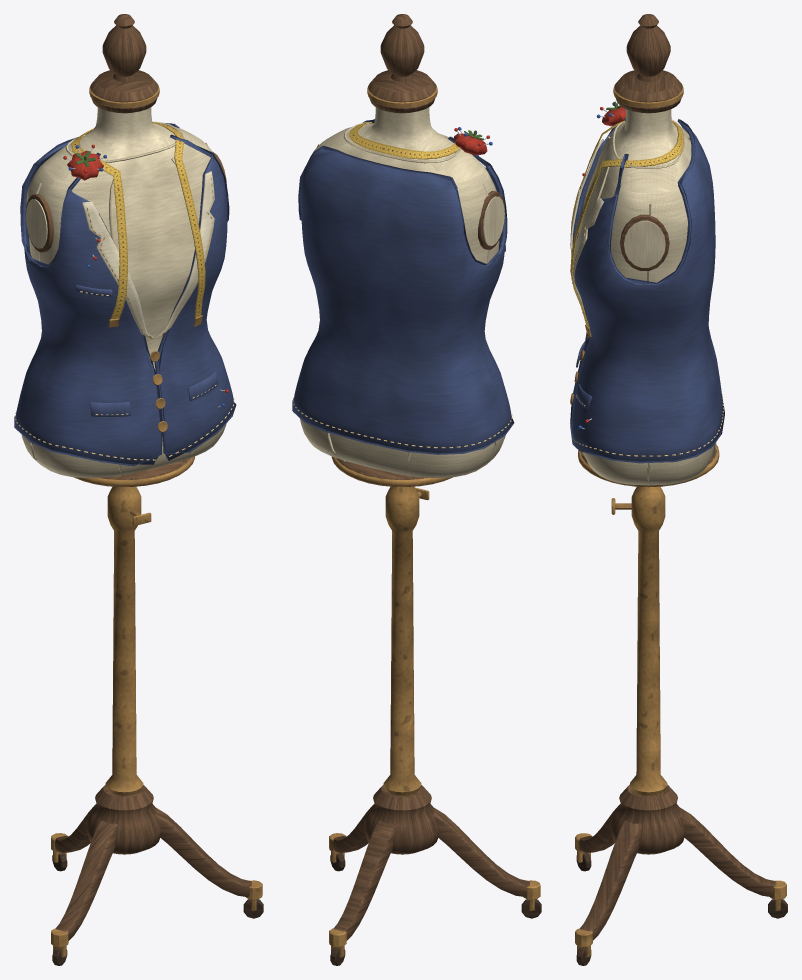
The model's file is tailor_dress_form.gltf.
3 views of the same model, side by side, from view 1: azimuth 30°, elevation 25°; view 2: azimuth 150°, elevation 25°; view 3: azimuth 270°, elevation 25° (orthographic).
Visible parts, largest first — view 1: DRESS_FORM; view 2: DRESS_FORM; view 3: DRESS_FORM.
Boxes of the visible parts, <box> form: DRESS_FORM: <box>14,14,263,965</box>; DRESS_FORM: <box>292,14,541,965</box>; DRESS_FORM: <box>570,14,787,965</box>.
Bounding box in the file's own units: 0.5124 × 2.1 × 0.4581.
13 materials, 10 textured.
